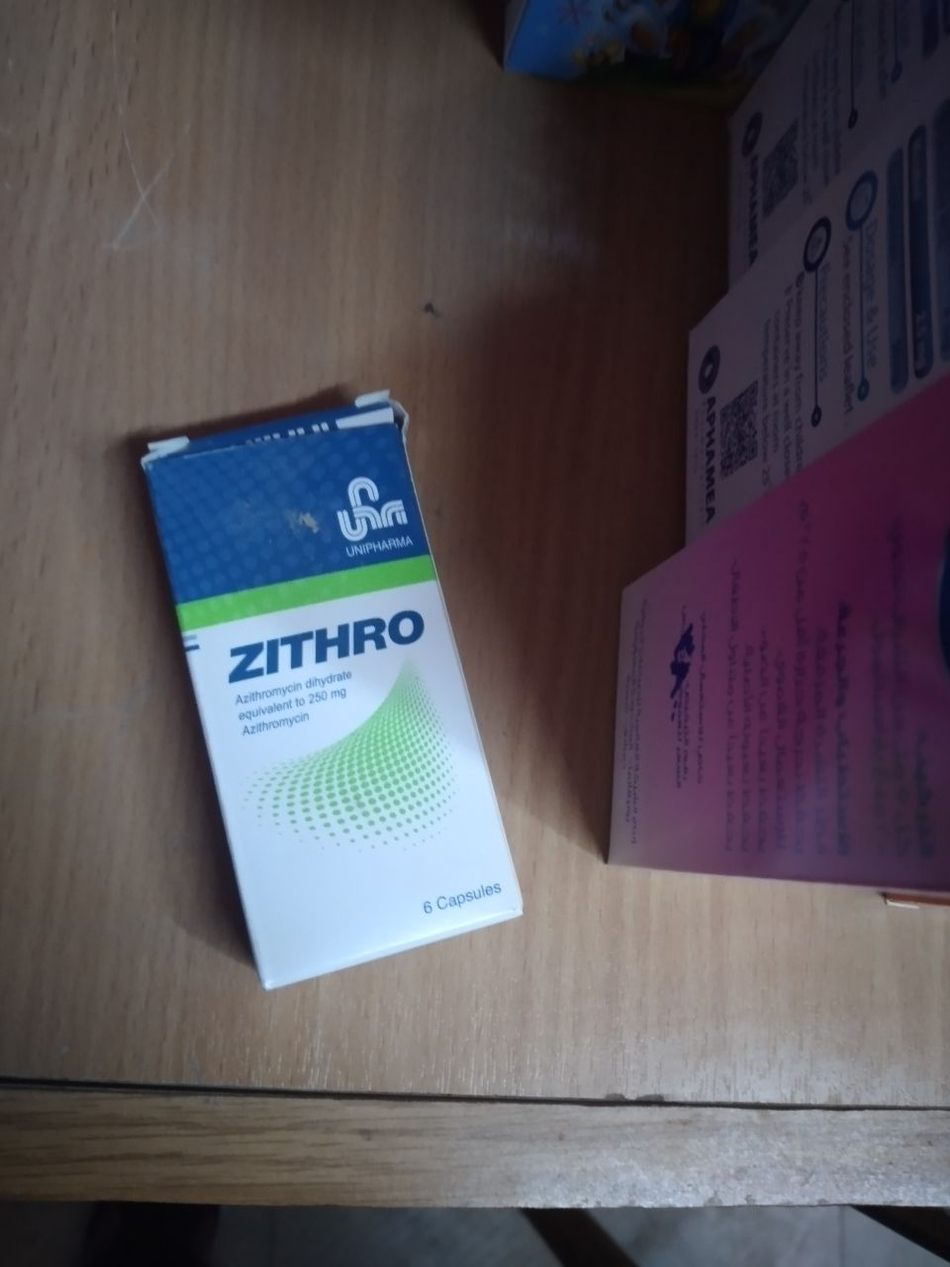Medicine: (102, 383, 557, 1046), (587, 396, 950, 954), (640, 69, 950, 511)
